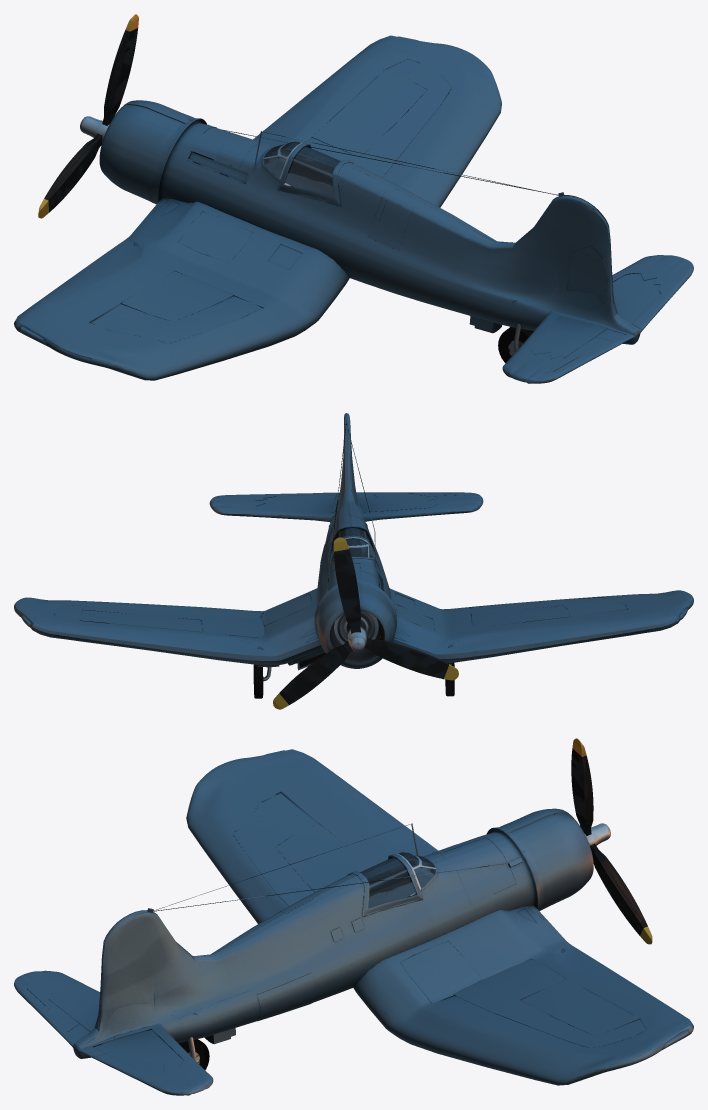
The model's file is corsair_plane.glb.
3 renders of one model, top to bottom at view 1: azimuth 30°, elevation 25°; view 2: azimuth 150°, elevation 25°; view 3: azimuth 270°, elevation 25°, orthographic. The views are drawn at different scales.
Visible parts, largest first — view 1: Cylinder.001, Cube.001, Cylinder.003, Cylinder.002; view 2: Cylinder.001, Cube.001, Cylinder.002, Cylinder.003, Cube.049, Cylinder.014; view 3: Cylinder.001, Cube.001, Cylinder.003, Cylinder.002.
Part boxes in pixels (<box>): Cylinder.001: <box>14,35,693,383</box>; Cube.001: <box>44,28,137,212</box>; Cylinder.003: <box>263,141,340,197</box>; Cylinder.002: <box>80,116,523,355</box>; Cylinder.001: <box>14,413,693,670</box>; Cube.001: <box>279,549,448,704</box>; Cylinder.002: <box>263,536,454,686</box>; Cylinder.003: <box>331,527,374,559</box>; Cube.049: <box>273,537,458,709</box>; Cylinder.014: <box>253,662,454,698</box>; Cylinder.001: <box>14,749,693,1095</box>; Cube.001: <box>571,748,647,935</box>; Cylinder.003: <box>360,852,435,908</box>; Cylinder.002: <box>184,823,610,1063</box>.
Size of the model in its own units: 0.5392 by 0.2062 by 0.5096.
6 materials, 5 textured.
